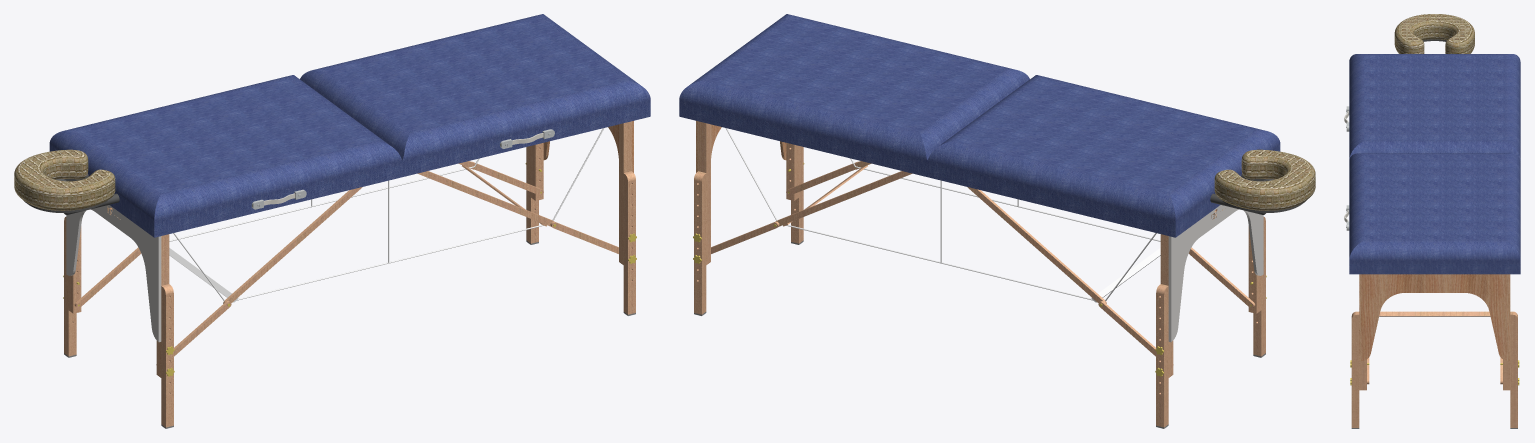
File: smallTable3.glb
The picture shows the model from 3 angles, left to right: view 1: azimuth 30°, elevation 25°; view 2: azimuth 150°, elevation 25°; view 3: azimuth 270°, elevation 25°; orthographic projection. The views are drawn at different scales.
Visible parts, largest first — view 1: table; view 2: table; view 3: table.
Part boxes in pixels (x1,y1,x2,y2): table: (14,14,650,428); table: (679,14,1315,428); table: (1344,14,1520,428).
Bounding box in the file's own units: 2.16 × 0.84 × 0.6988.
12 materials, 4 textured.
